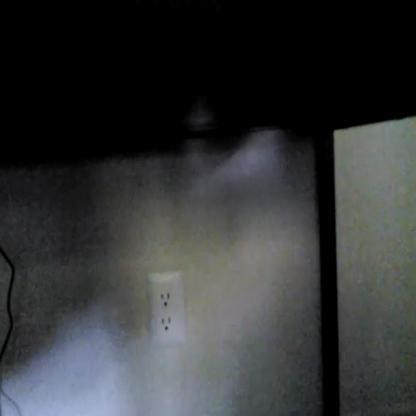OUTLET: (146, 273, 186, 347)
